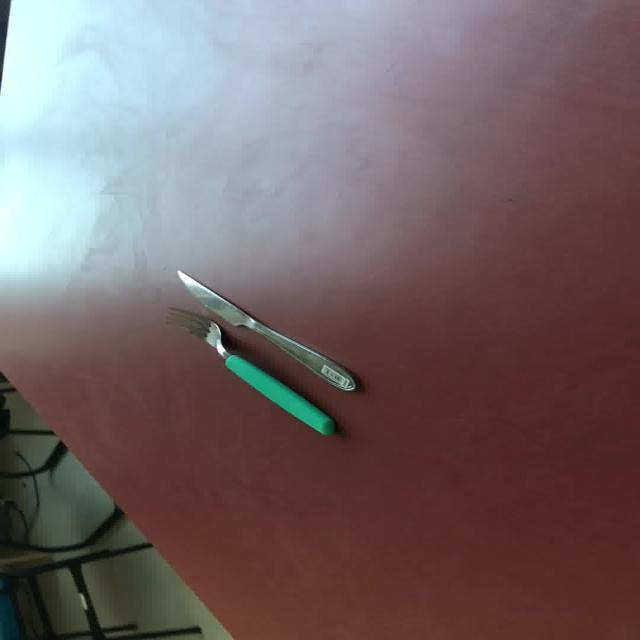fork: (164, 305, 336, 436)
knife fork: (174, 268, 358, 392), (164, 305, 337, 436)
